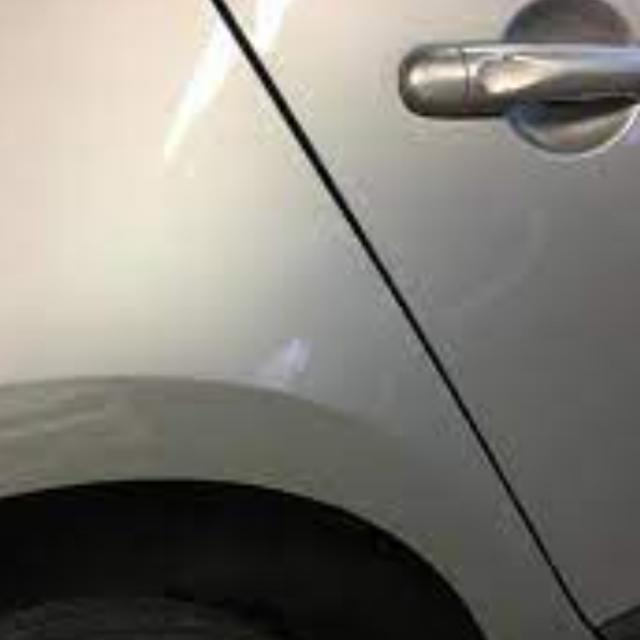dents: (5, 357, 145, 473)
